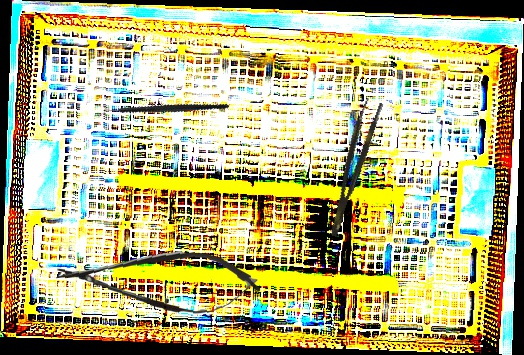Chopper: (96, 66, 230, 157)
Micro Scissor: (54, 242, 262, 320)
Tissue Forceps: (318, 97, 385, 238)
